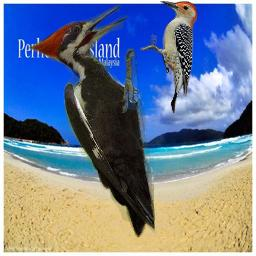Woodpecker: (28, 5, 155, 238), (140, 1, 197, 113)
